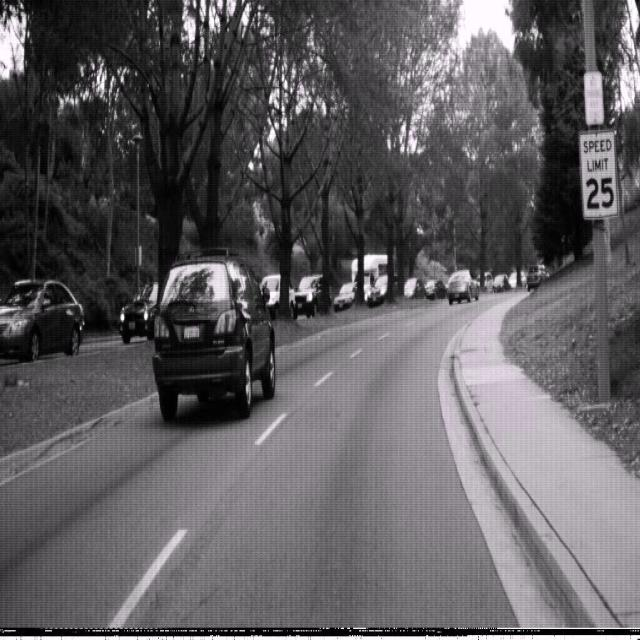speedLimit25: (578, 126, 620, 220)
